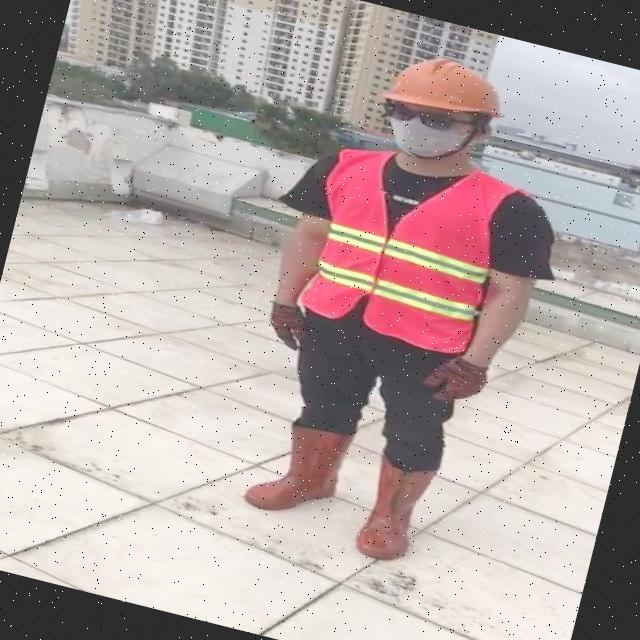boots: (242, 414, 352, 526), (352, 452, 433, 566)
helmet: (374, 41, 518, 130)
vest: (297, 141, 512, 360)
